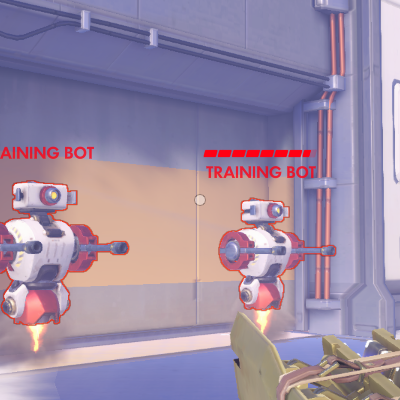hpbar: (203, 149, 317, 158)
